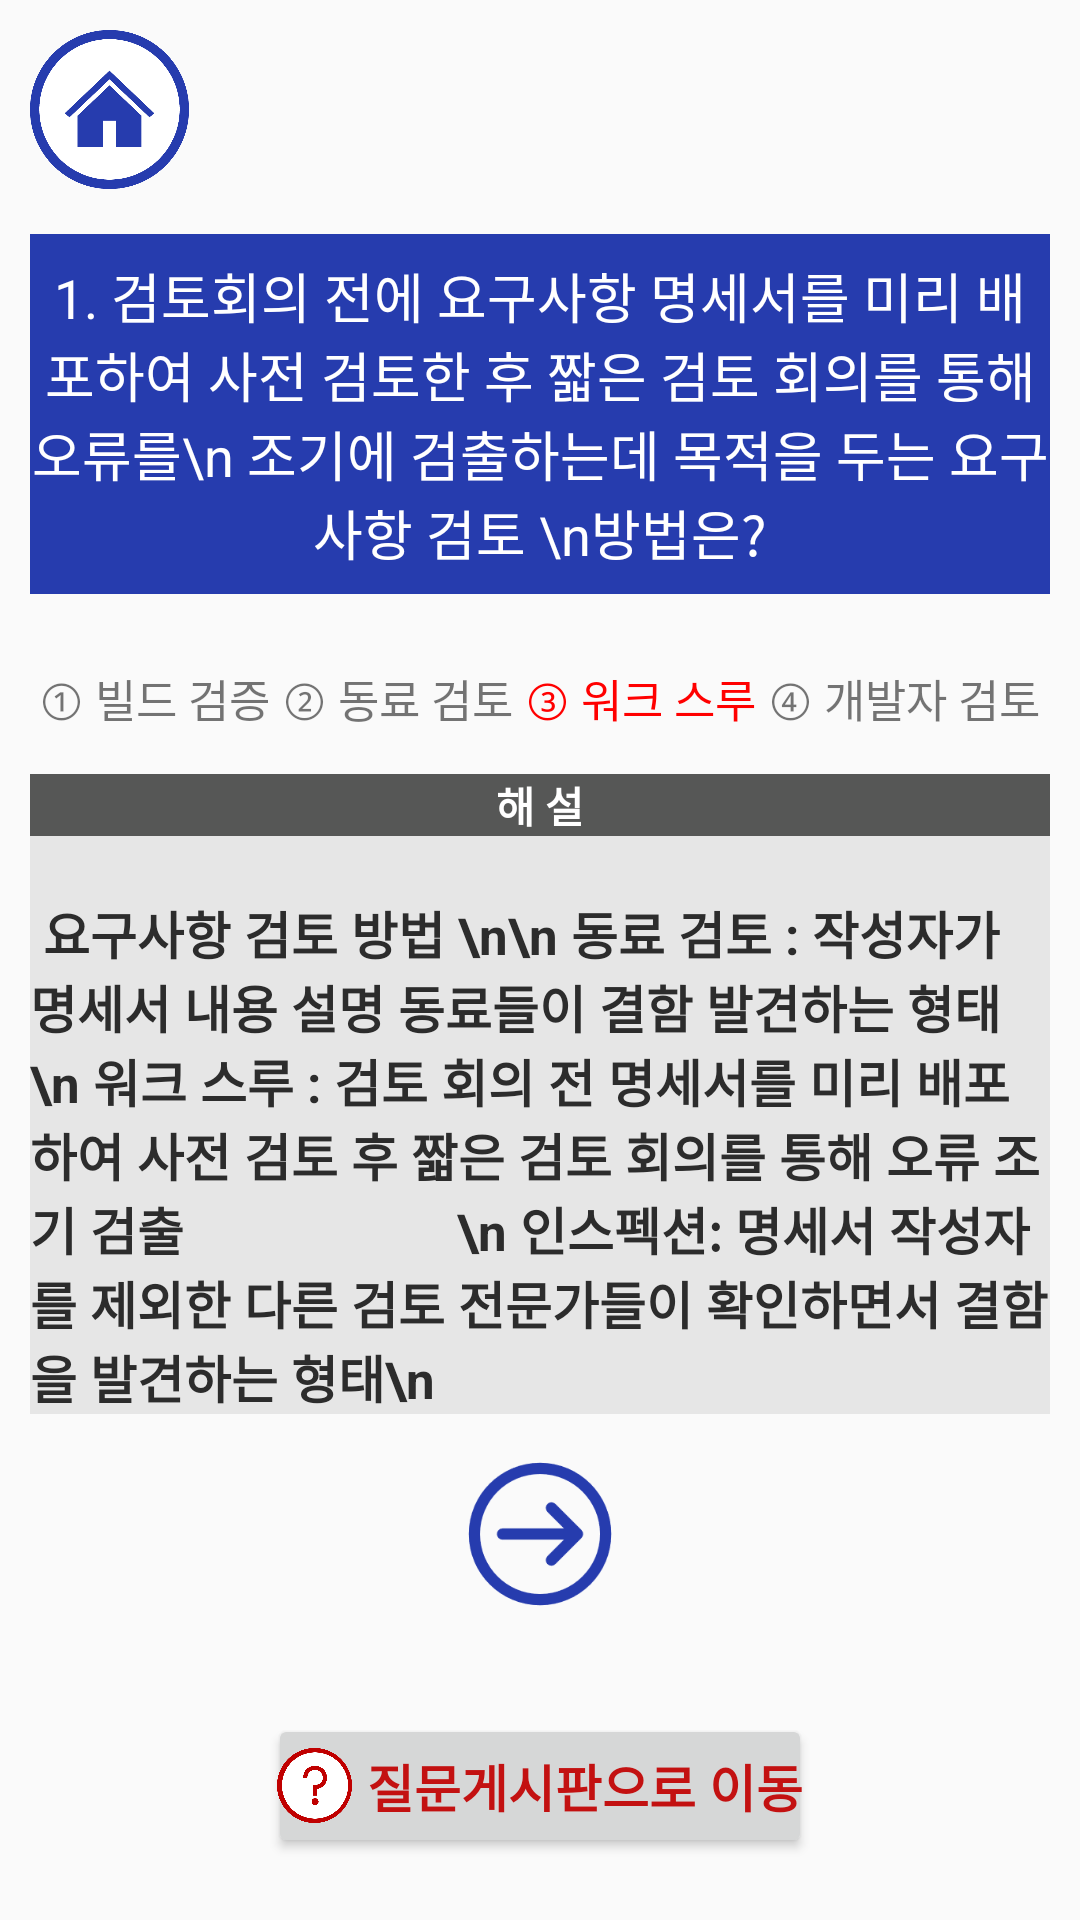

Locate icon controls on the screen. Image size 1080*1920, boxes as {"left": x1, "top": y1, "right": x2, "bottom": y2}.
home: {"left": 30, "top": 30, "right": 189, "bottom": 189}
next: {"left": 468, "top": 1462, "right": 612, "bottom": 1606}
